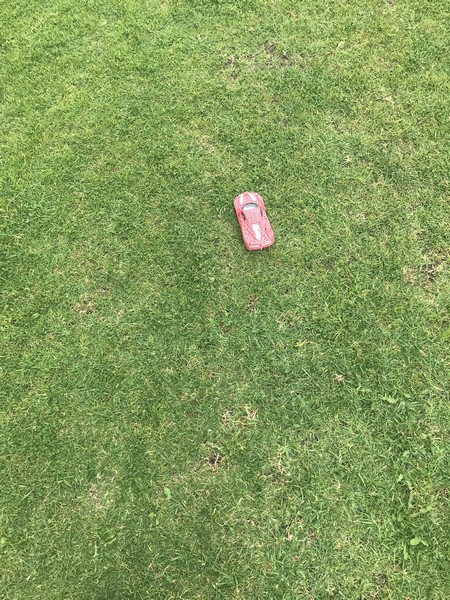RC: (232, 189, 278, 252)
